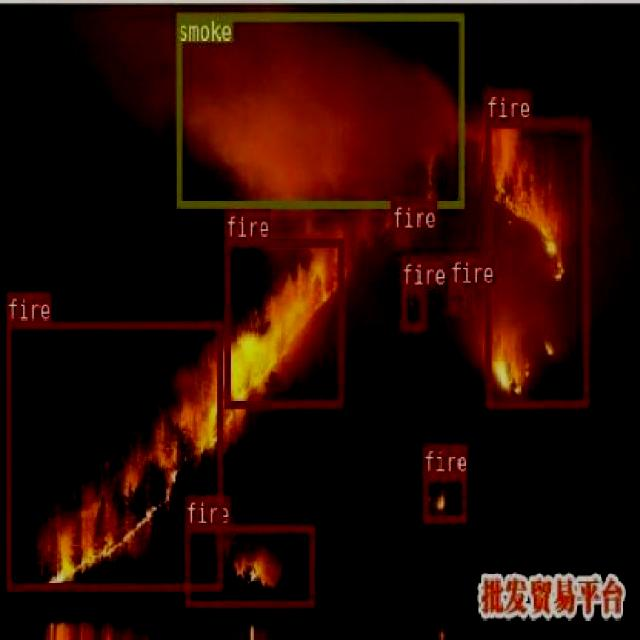fire: (5, 319, 221, 590), (484, 117, 588, 406), (224, 238, 342, 407), (184, 522, 313, 607), (422, 473, 466, 522), (400, 286, 425, 328), (448, 283, 470, 311), (390, 228, 410, 246)
smoke: (175, 12, 463, 208)
